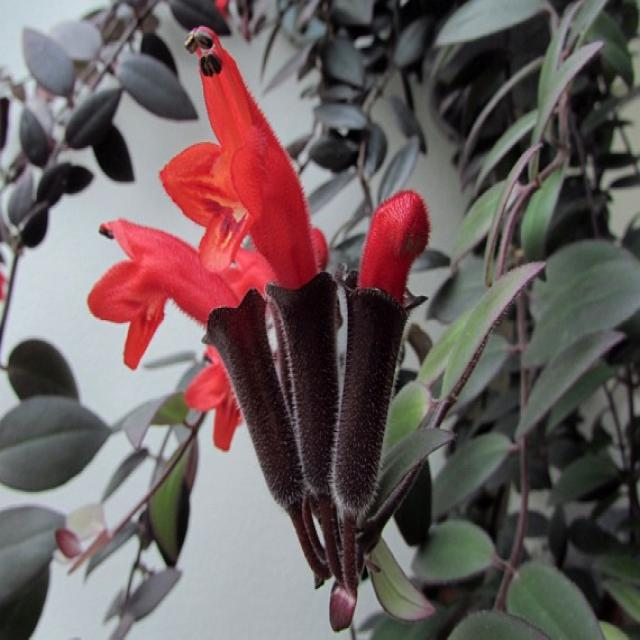Lipstick-Plant: (63, 1, 434, 608)
